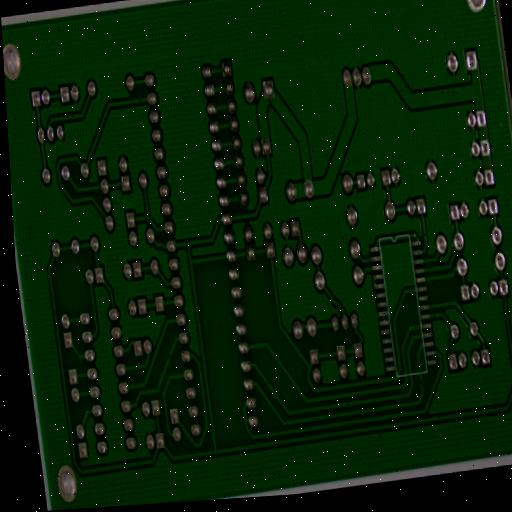open_circuit: (166, 349, 175, 363), (138, 94, 145, 106), (418, 376, 425, 388)
